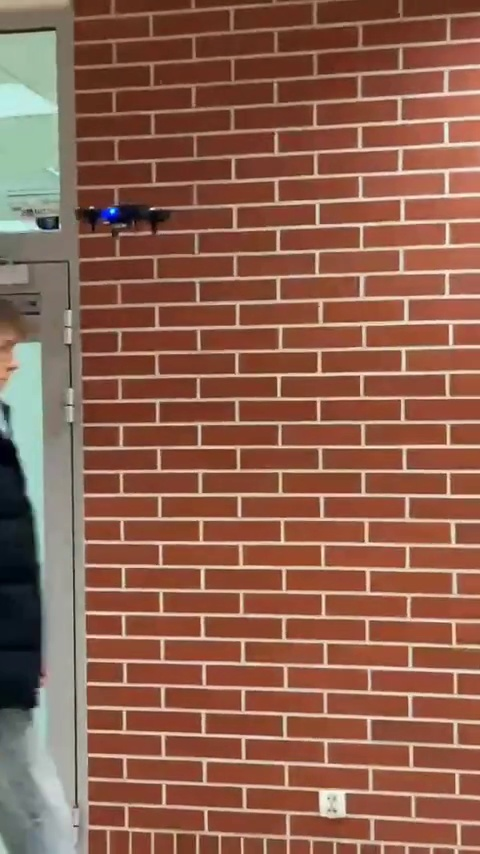drone: (68, 202, 174, 235)
